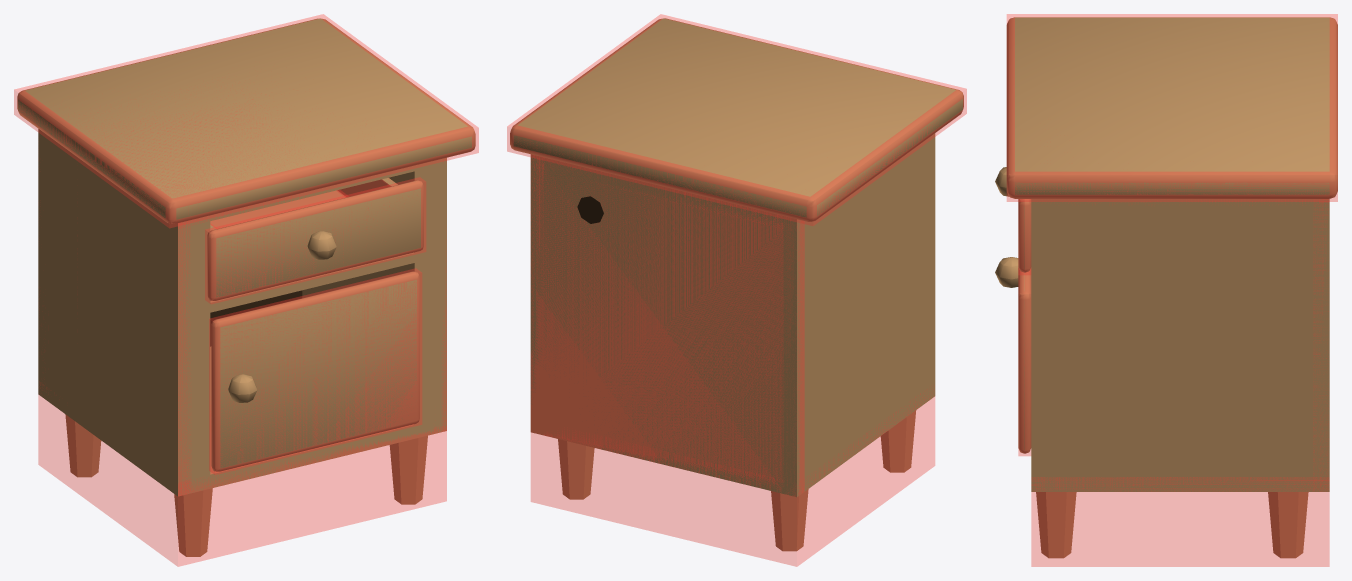
The model's file is NightstandN01.glb.
3 views of the same model, side by side, from view 1: azimuth 30°, elevation 25°; view 2: azimuth 150°, elevation 25°; view 3: azimuth 270°, elevation 25° (orthographic). The views are drawn at different scales.
Visible parts, largest first — view 1: Body_Wood, Door_HingeR_Wood, Col_Legs, Drawer1_Wood, Col_Door_HingeR, Col_Tabletop, Col_Drawer1Front, Col_Bottom, Col_SideLeft, Col_Drawer1, Body_Inside; view 2: Body_Wood, Col_Back, Col_Legs, Col_Tabletop; view 3: Body_Wood, Col_Legs, Col_Tabletop, Door_HingeR_Wood, Col_Door_HingeR, Col_Bottom, Drawer1_Wood, Col_Drawer1Front.
Part boxes in pixels (<box>): Body_Wood: <box>17,18,475,556</box>; Door_HingeR_Wood: <box>211,271,419,471</box>; Col_Legs: <box>38,395,446,566</box>; Drawer1_Wood: <box>207,178,423,300</box>; Col_Door_HingeR: <box>209,268,421,474</box>; Col_Tabletop: <box>14,14,478,228</box>; Col_Drawer1Front: <box>205,177,425,304</box>; Col_Bottom: <box>178,411,446,495</box>; Col_SideLeft: <box>178,223,190,495</box>; Col_Drawer1: <box>210,190,348,228</box>; Body_Inside: <box>210,290,302,346</box>; Body_Wood: <box>510,18,963,551</box>; Col_Back: <box>531,158,804,495</box>; Col_Legs: <box>531,397,934,566</box>; Col_Tabletop: <box>507,14,966,225</box>; Body_Wood: <box>1006,17,1337,558</box>; Col_Legs: <box>1031,492,1329,566</box>; Col_Tabletop: <box>1007,14,1337,201</box>; Door_HingeR_Wood: <box>995,257,1031,453</box>; Col_Door_HingeR: <box>1018,268,1030,455</box>; Col_Bottom: <box>1031,477,1329,491</box>; Drawer1_Wood: <box>995,167,1031,272</box>; Col_Drawer1Front: <box>1018,199,1030,274</box>.
Size of the model in its own units: 2.3 by 2.68 by 2.07.
